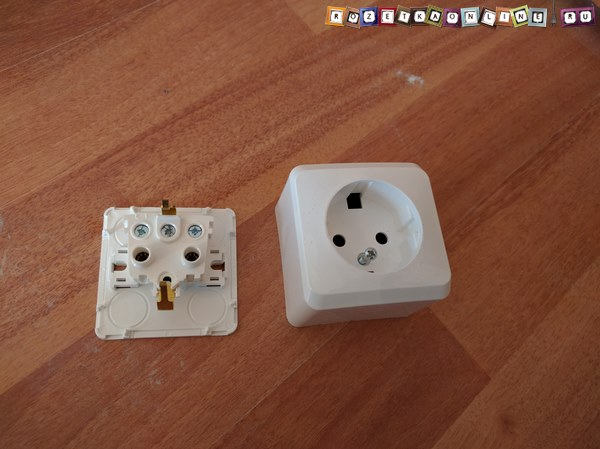raccoon: (324, 172, 423, 276)
